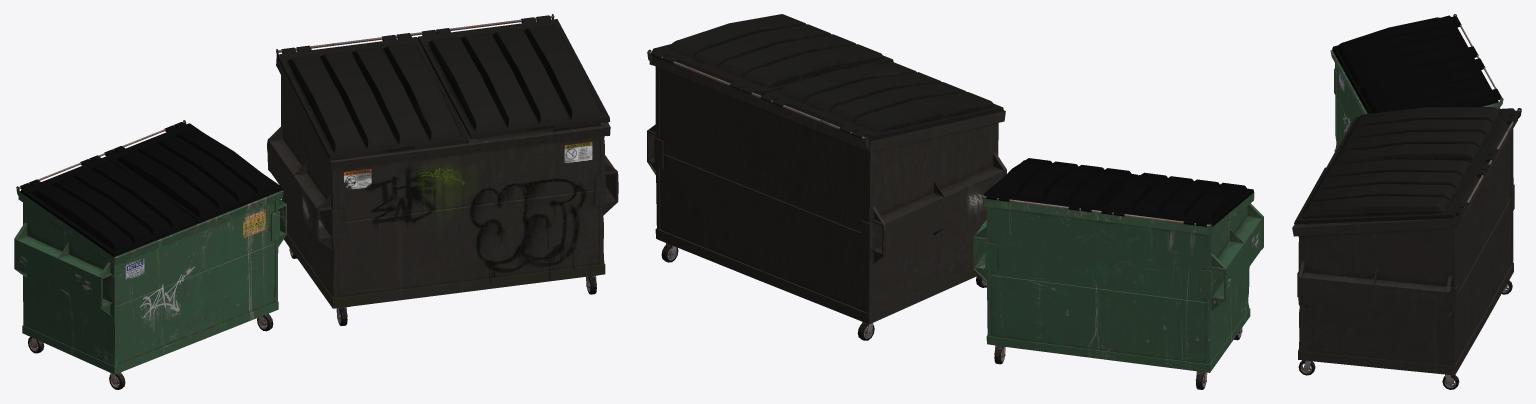
File: dumpsters.glb
3 renders of one model, left to right at view 1: azimuth 30°, elevation 25°; view 2: azimuth 150°, elevation 25°; view 3: azimuth 270°, elevation 25°, orthographic. The views are drawn at different scales.
Parts seen in each view (by area): view 1: Dumpsters; view 2: Dumpsters; view 3: Dumpsters.
Boxes of the visible parts, bbox=[...] form: Dumpsters: bbox=[14, 14, 618, 389]; Dumpsters: bbox=[647, 14, 1263, 389]; Dumpsters: bbox=[1292, 14, 1521, 389].
Bounding box in the file's own units: 4.36 × 1.54 × 1.75.
2 materials, 2 textured.
